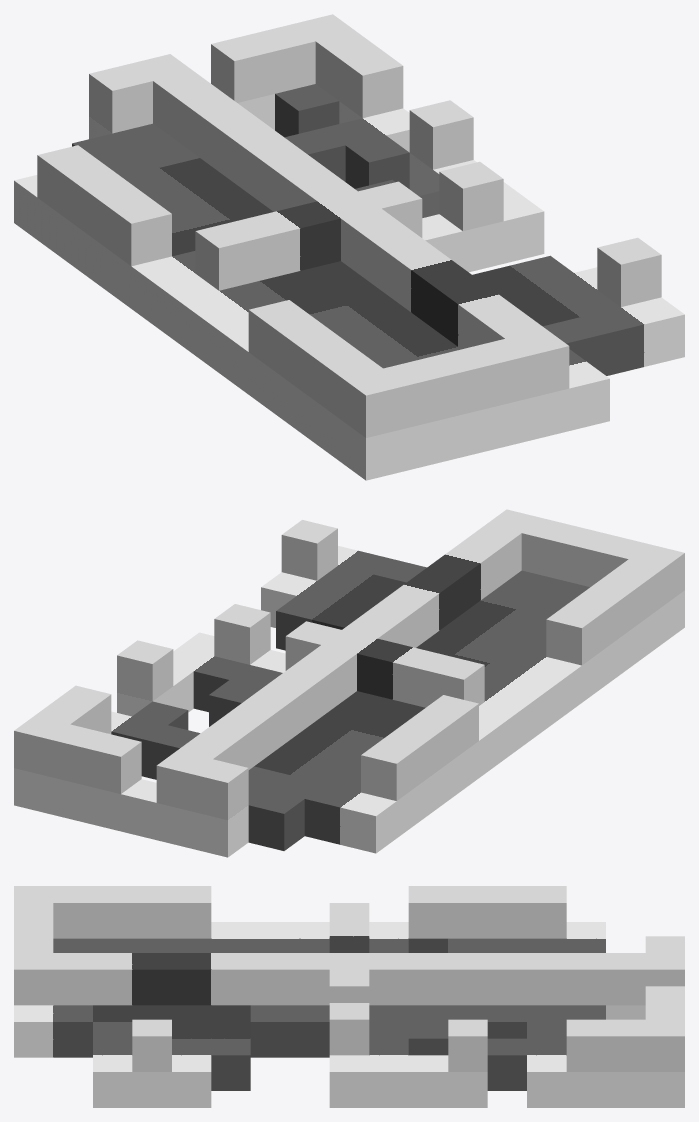
File: garbage_small_satellite4.fbx
3 views of the same model, one above another, from view 1: azimuth 30°, elevation 25°; view 2: azimuth 150°, elevation 25°; view 3: azimuth 270°, elevation 25° (orthographic). The views are drawn at different scales.
Visible parts, largest first — view 1: garbage_small_satellite4; view 2: garbage_small_satellite4; view 3: garbage_small_satellite4.
Part boxes in pixels (x1=…): garbage_small_satellite4: x1=14, y1=14, x2=684, y2=480; garbage_small_satellite4: x1=14, y1=509, x2=684, y2=857; garbage_small_satellite4: x1=14, y1=886, x2=684, y2=1107.
Bounding box in the file's own units: 9 × 2 × 17.
